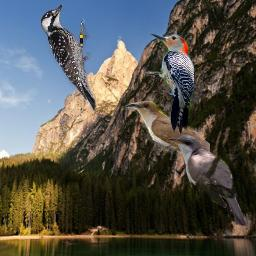Cuckoo: (166, 132, 247, 229), (124, 101, 210, 164)
Woodpecker: (40, 3, 96, 111), (143, 34, 194, 134)
